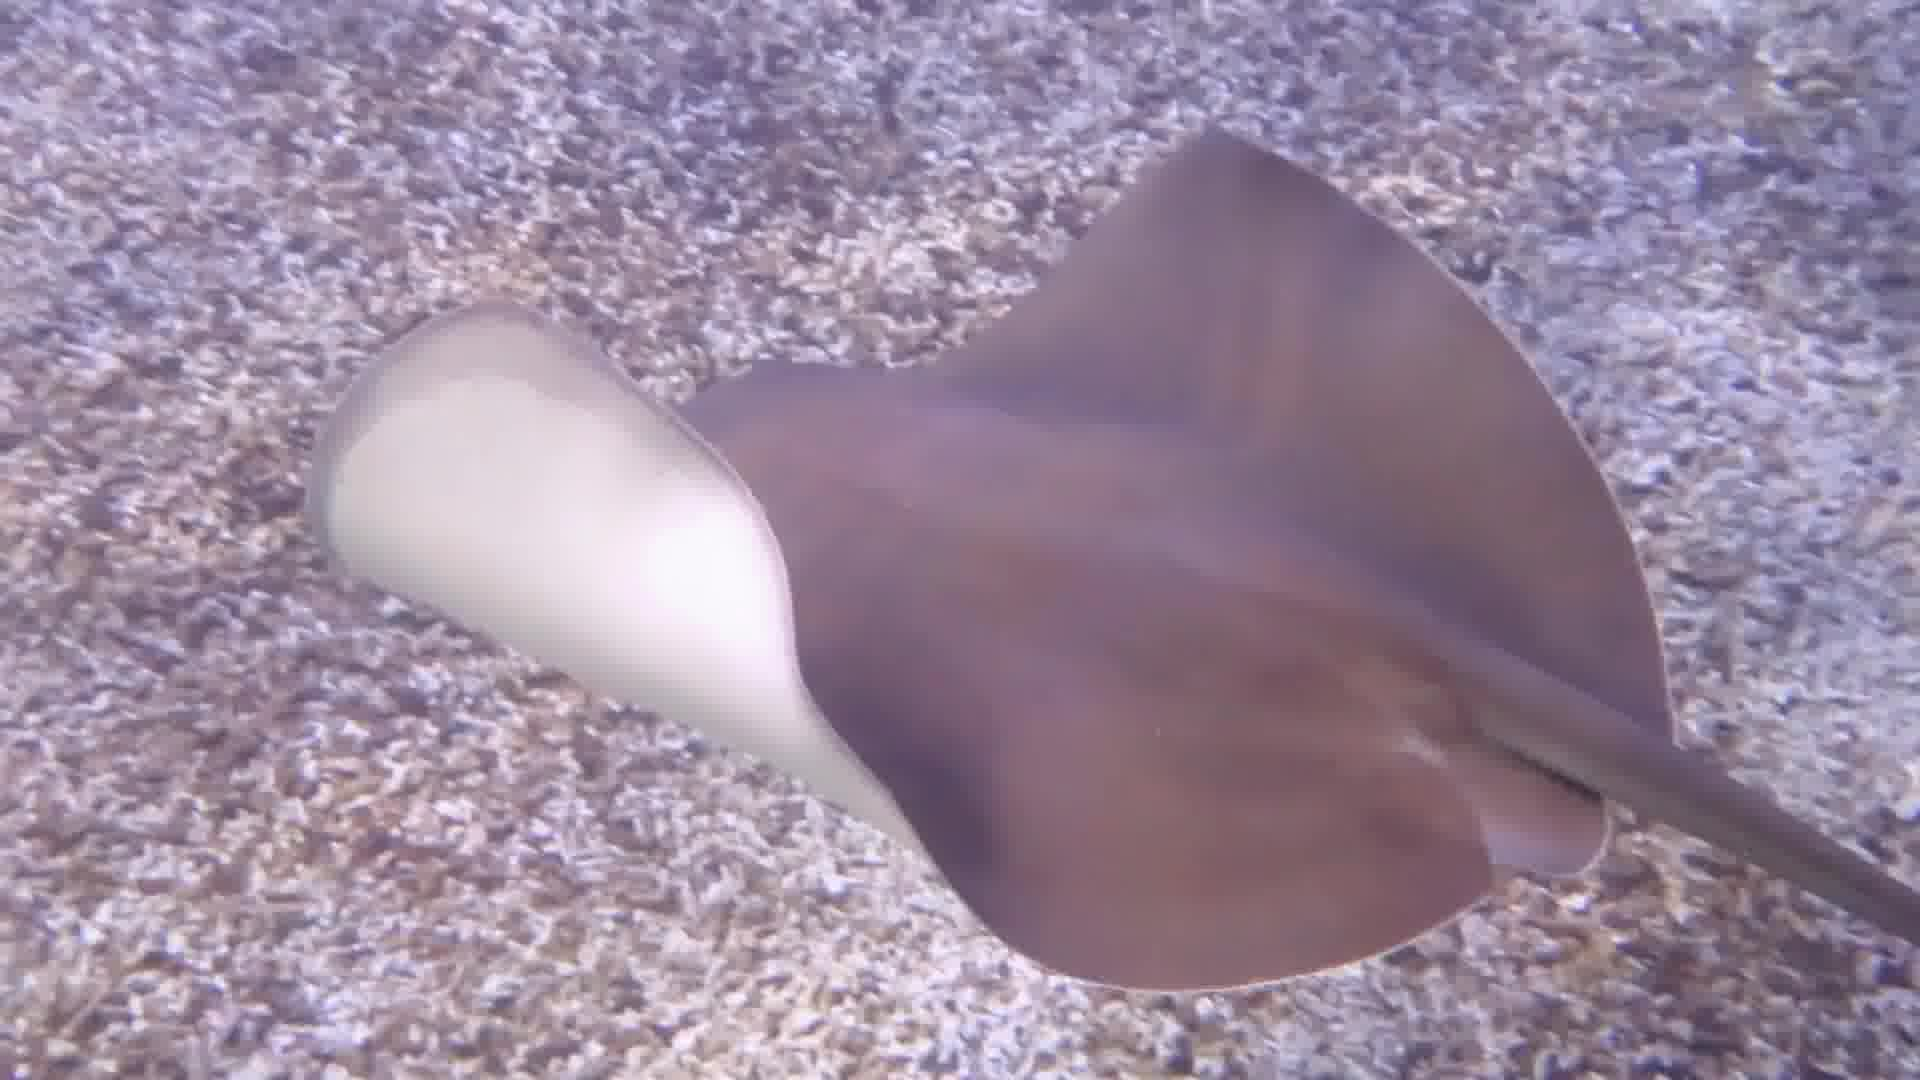Dasyatis akajei: (306, 4, 1920, 1080)
